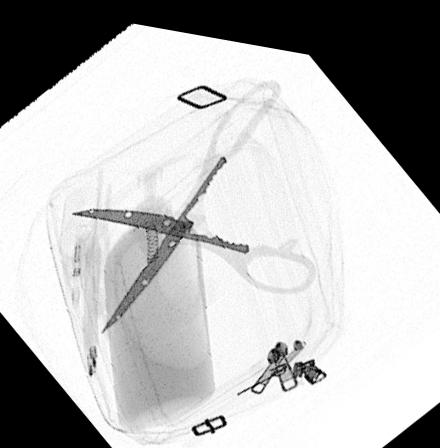Scissors: (69, 65, 318, 331)
